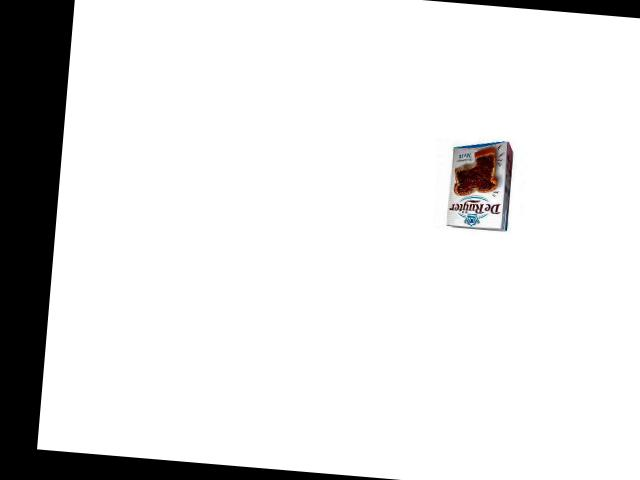chocolate: (437, 138, 522, 237)
